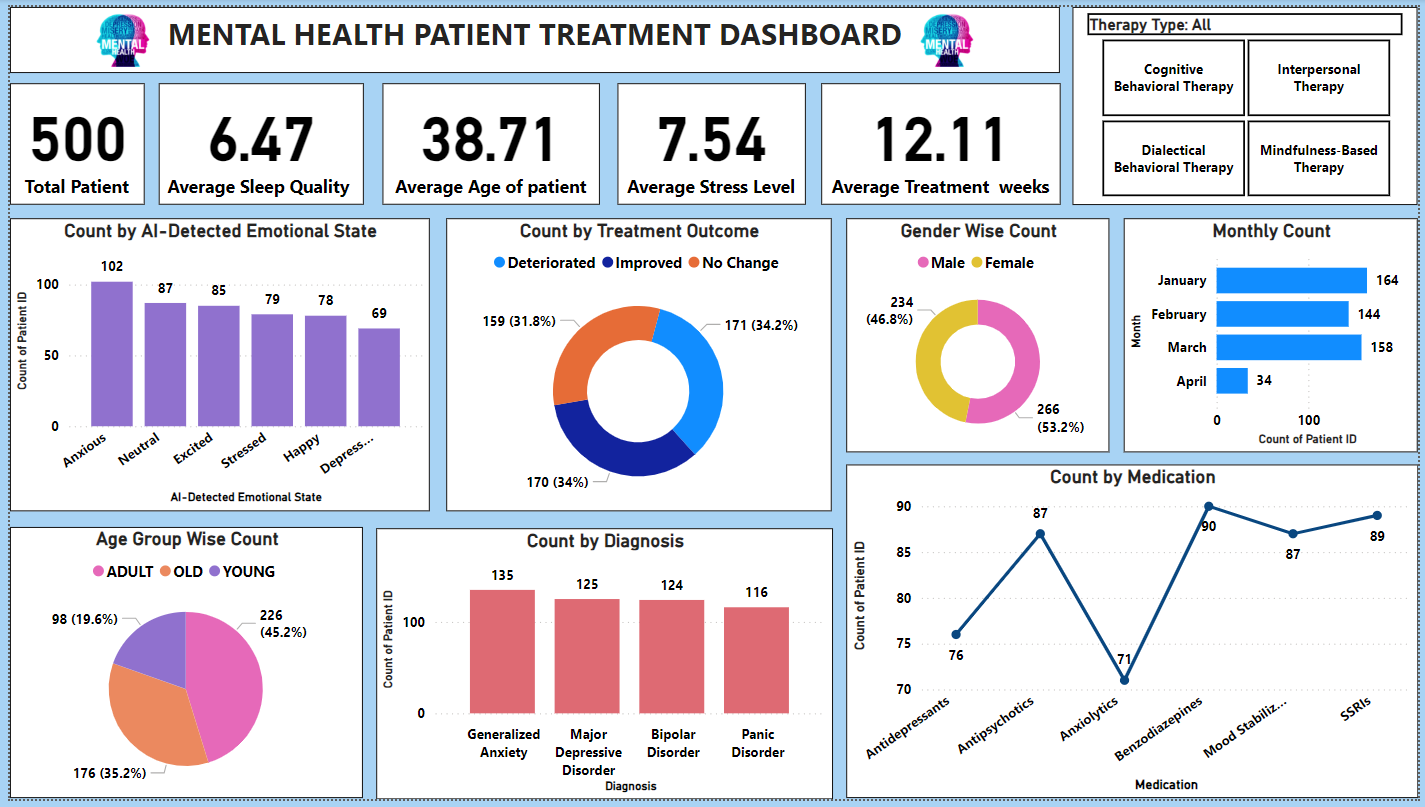

The page's visual inventory and layout, read from the dashboard file:
{"tool":"powerbi","page":{"name":"Page 1","canvas":[1280,720],"ordinal":0},"visuals":[{"type":"textbox","box":[0,0,954.7,59.7],"z":0},{"type":"card","fields":{"Values":["Avg(mental_health_diagnosis_treatment_.Sleep Quality (1-10))"]},"box":[134.9,69.8,186,110.5],"z":1000},{"type":"card","fields":{"Values":["Avg(mental_health_diagnosis_treatment_.Age)"]},"box":[338.4,69.8,197.7,110.5],"z":2000},{"type":"pieChart","title":"Age Group Wise Count","fields":{"Category":["mental_health_diagnosis_treatment_.Age Group"],"Y":["CountNonNull(mental_health_diagnosis_treatment_.Patient ID)"]},"box":[0,473.3,320.9,246.5],"z":3000},{"type":"columnChart","title":"Count by Diagnosis","fields":{"Y":["CountNonNull(mental_health_diagnosis_treatment_.Patient ID)"],"Category":["mental_health_diagnosis_treatment_.Diagnosis"]},"box":[332.6,473.5,415.1,246.5],"z":4000},{"type":"lineChart","title":"Count by Medication","fields":{"Category":["mental_health_diagnosis_treatment_.Medication"],"Y":["CountNonNull(mental_health_diagnosis_treatment_.Patient ID)"]},"box":[760.5,416.3,519.8,303.5],"z":5000},{"type":"donutChart","title":"Count by Treatment Outcome","fields":{"Category":["mental_health_diagnosis_treatment_.Outcome"],"Y":["CountNonNull(mental_health_diagnosis_treatment_.Patient ID)"]},"box":[396.5,191.9,350,266.3],"z":6000},{"type":"columnChart","title":"Count  by AI-Detected Emotional State","fields":{"Y":["CountNonNull(mental_health_diagnosis_treatment_.Patient ID)"],"Category":["mental_health_diagnosis_treatment_.AI-Detected Emotional State"]},"box":[0,191.9,381.4,266.3],"z":7000},{"type":"clusteredBarChart","title":"Monthly Count","fields":{"Category":["mental_health_diagnosis_treatment_.Treatment Start Date.Variation.Date Hierarchy.Month"],"Y":["CountNonNull(mental_health_diagnosis_treatment_.Patient ID)"]},"box":[1012.8,191.9,267.4,212.8],"z":8000},{"type":"donutChart","title":"Gender Wise Count","fields":{"Category":["mental_health_diagnosis_treatment_.Gender"],"Y":["CountNonNull(mental_health_diagnosis_treatment_.Patient ID)"]},"box":[760.5,191.9,239.5,212.8],"z":9000},{"type":"slicer","fields":{"Values":["mental_health_diagnosis_treatment_.Therapy Type"]},"box":[966.3,0,314,180.2],"z":10000},{"type":"card","fields":{"Values":["Avg(mental_health_diagnosis_treatment_.Stress Level (1-10))"]},"box":[552.3,69.8,170.9,110.5],"z":11000},{"type":"card","fields":{"Values":["CountNonNull(mental_health_diagnosis_treatment_.Patient ID)"]},"box":[0,69.8,122.1,110.5],"z":12000},{"type":"image","box":[747.3,0,207.4,59.7],"z":13000},{"type":"card","fields":{"Values":["Avg(mental_health_diagnosis_treatment_.Treatment Duration (weeks))"]},"box":[737.1,69.9,217.5,110.5],"z":14000},{"type":"image","box":[1.1,0,202.9,59.7],"z":15000}]}

Visuals, with their boxes in screenshot pixels (x1, y1, x2, y2), scaled from the page's 1280x720 canvas onto the 1425x807 screenshot:
textbox: crop(0, 0, 1063, 67)
card - Avg(mental_health_diagnosis_treatment_.Sleep Quality (1-10)): crop(150, 78, 357, 202)
card - Avg(mental_health_diagnosis_treatment_.Age): crop(377, 78, 597, 202)
"Age Group Wise Count" pieChart: crop(0, 530, 357, 806)
"Count by Diagnosis" columnChart: crop(370, 531, 832, 806)
"Count by Medication" lineChart: crop(847, 467, 1424, 806)
"Count by Treatment Outcome" donutChart: crop(441, 215, 831, 514)
"Count  by AI-Detected Emotional State" columnChart: crop(0, 215, 425, 514)
"Monthly Count" clusteredBarChart: crop(1128, 215, 1424, 454)
"Gender Wise Count" donutChart: crop(847, 215, 1113, 454)
slicer - mental_health_diagnosis_treatment_.Therapy Type: crop(1076, 0, 1424, 202)
card - Avg(mental_health_diagnosis_treatment_.Stress Level (1-10)): crop(615, 78, 805, 202)
card - CountNonNull(mental_health_diagnosis_treatment_.Patient ID): crop(0, 78, 136, 202)
image: crop(832, 0, 1063, 67)
card - Avg(mental_health_diagnosis_treatment_.Treatment Duration (weeks)): crop(821, 78, 1063, 202)
image: crop(1, 0, 227, 67)
